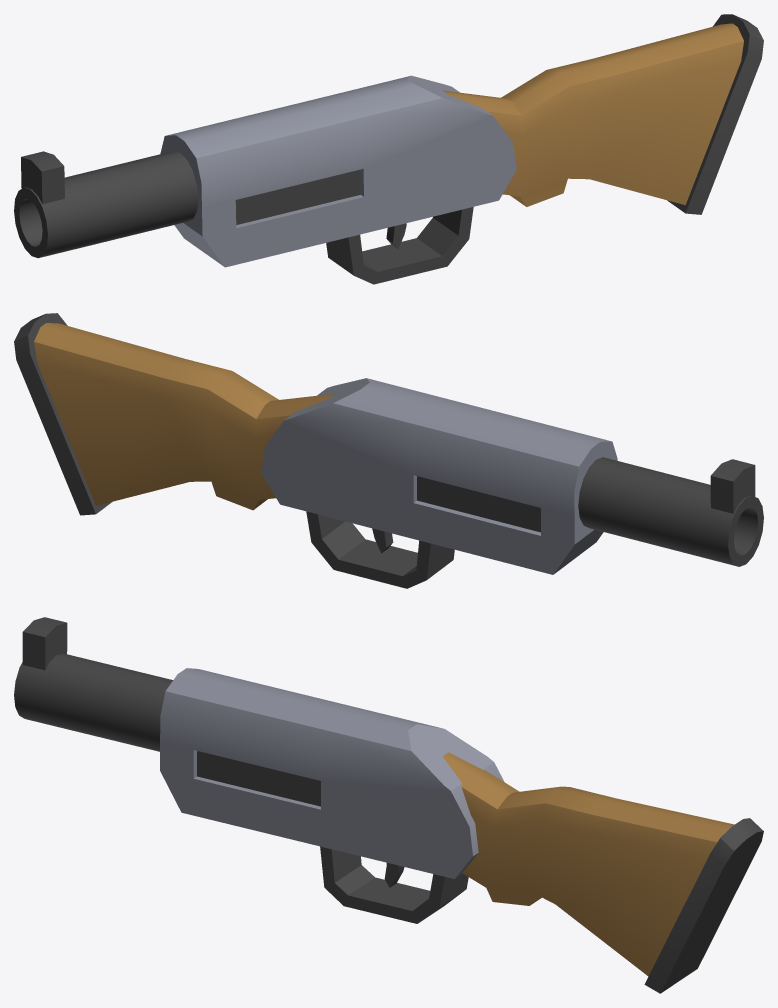
Rendered from ShortCannon.glb.
3 views of the same model, one above another, from view 1: azimuth 30°, elevation 25°; view 2: azimuth 150°, elevation 25°; view 3: azimuth 330°, elevation 25° (orthographic).
Parts seen in each view (by area): view 1: ShortCannon; view 2: ShortCannon; view 3: ShortCannon.
Boxes of the visible parts, left/top/right/bottom form: ShortCannon: left=14, top=14, right=763, bottom=284; ShortCannon: left=14, top=313, right=763, bottom=588; ShortCannon: left=14, top=617, right=763, bottom=993.
Size of the model in its own units: 1.21 by 0.3141 by 0.1318.
